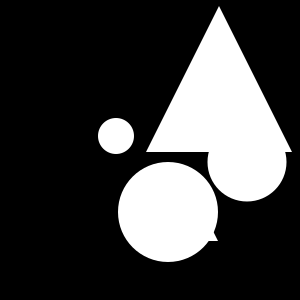rectangle: (118, 162, 218, 262), (208, 123, 286, 202), (98, 118, 134, 154)
triangle: (146, 6, 292, 152), (179, 202, 218, 241)
